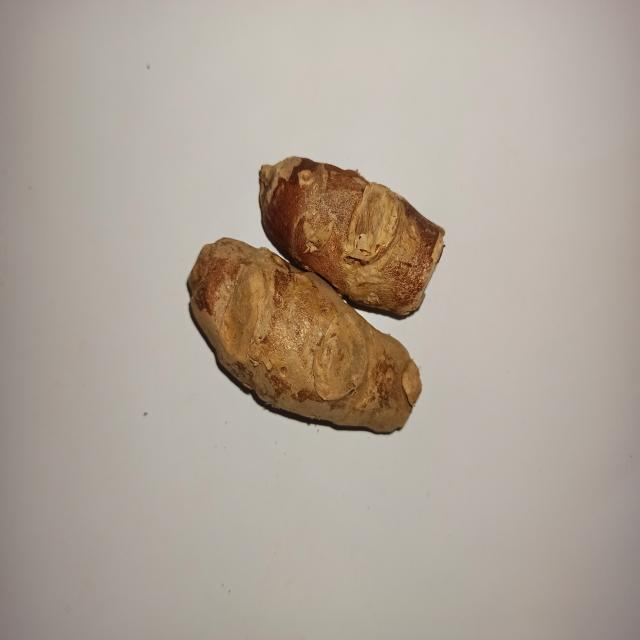ginger: (188, 216, 424, 436), (256, 151, 441, 320)
